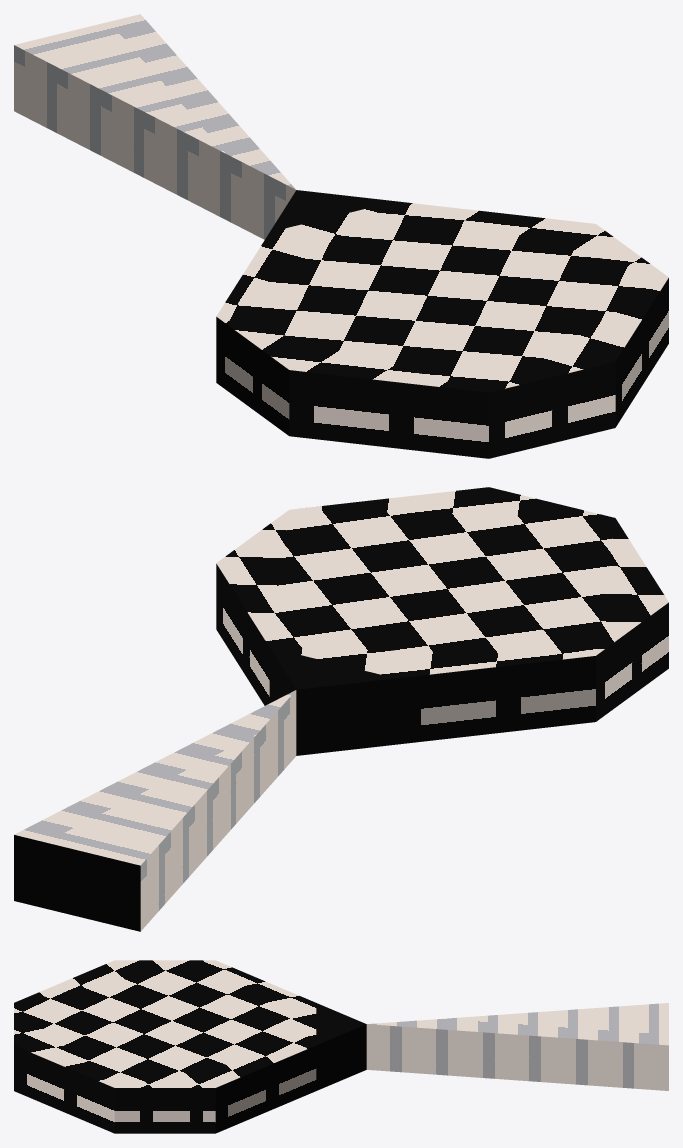
Rendered from tennisracket.glb.
The picture shows the model from 3 angles, top to bottom: view 1: azimuth 30°, elevation 25°; view 2: azimuth 150°, elevation 25°; view 3: azimuth 270°, elevation 25°; orthographic projection. The views are drawn at different scales.
Parts seen in each view (by area): view 1: tennisracket; view 2: tennisracket; view 3: tennisracket.
Boxes of the visible parts, left/top/right/bottom form: tennisracket: left=14, top=14, right=668, bottom=458; tennisracket: left=14, top=487, right=668, bottom=931; tennisracket: left=14, top=960, right=668, bottom=1133.
Size of the model in its own units: 1.5 by 0.25 by 3.25.
Materials: 1 (1 with a texture image).
